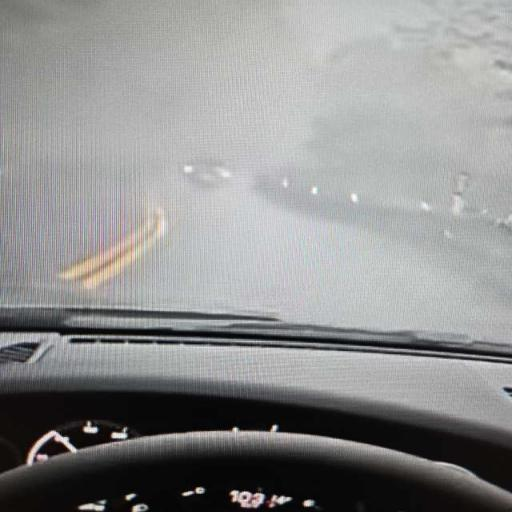lane: (0, 0, 511, 338)
